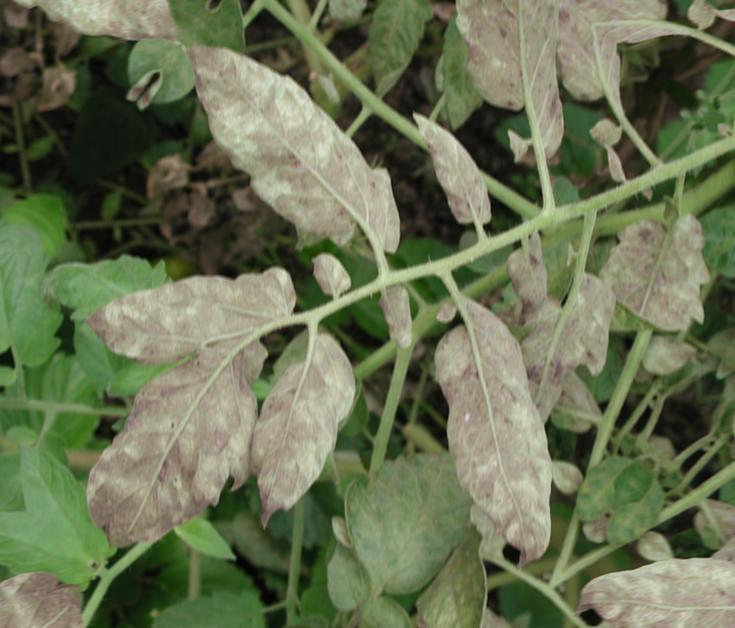Tomato mold leaf: (292, 418, 494, 628), (690, 159, 735, 313), (276, 614, 422, 628)
